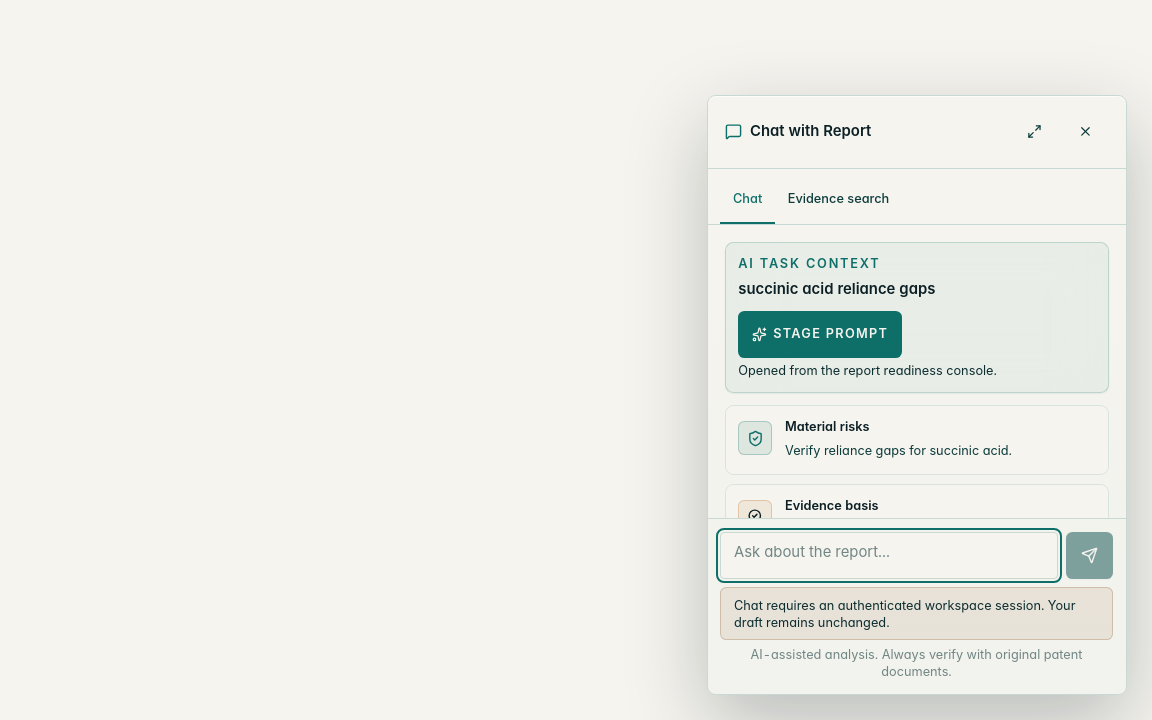
Test: ChatPanel › stages the launch prompt when chat is unavailable instead of dropping it
The image size is (1152, 720).
Click the button "Stage prompt".
click(820, 334)  # box [738, 311, 902, 358]
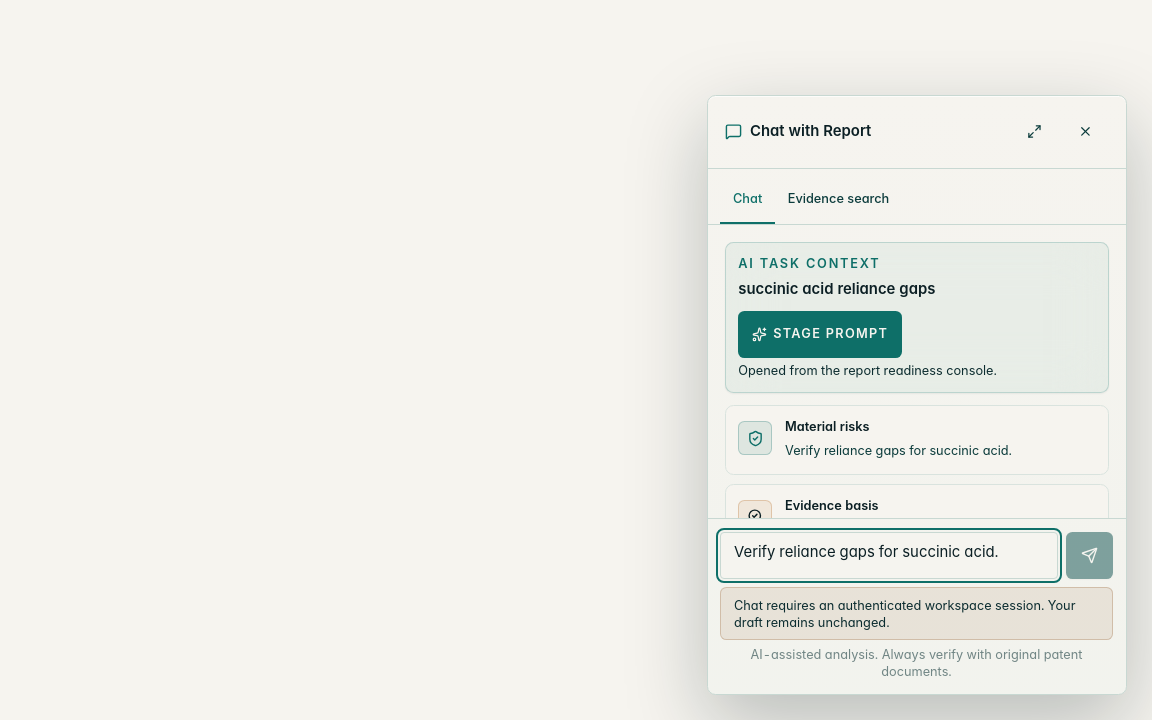
Check: the text box with placeholder "Ask about the report..." holds "Verify reliance gaps for succinic acid.", box [720, 532, 1058, 579]
